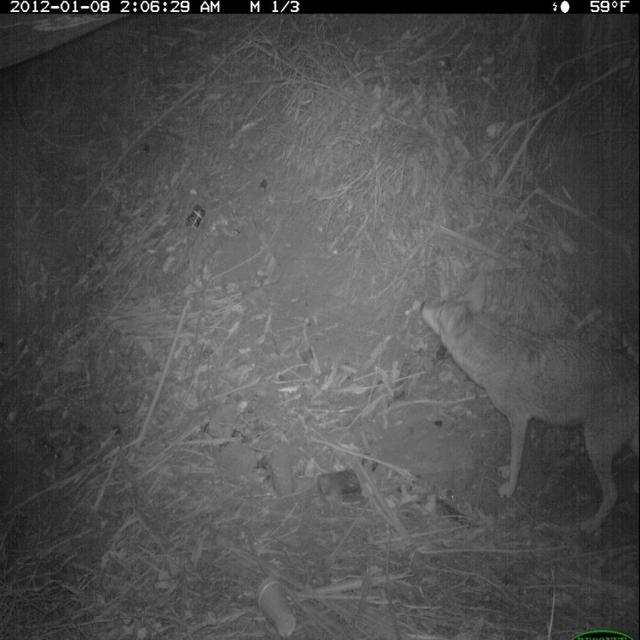coyote: (420, 272, 640, 546)
